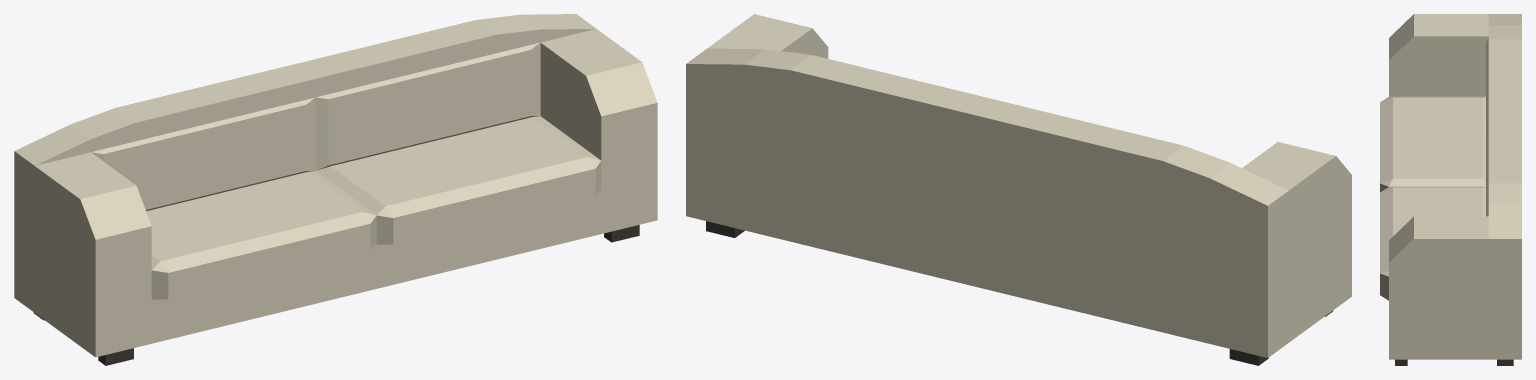
Rendered from Couch.fbx.
3 renders of one model, left to right at view 1: azimuth 30°, elevation 25°; view 2: azimuth 150°, elevation 25°; view 3: azimuth 270°, elevation 25°, orthographic. The views are drawn at different scales.
Parts seen in each view (by area): view 1: Couch; view 2: Couch; view 3: Couch.
Part boxes in pixels (box(x1,y1,x2,y2)): Couch: box(14, 14, 657, 365); Couch: box(686, 14, 1351, 365); Couch: box(1380, 14, 1521, 365).
Size of the model in its own units: 6000 by 1839 by 1600.
